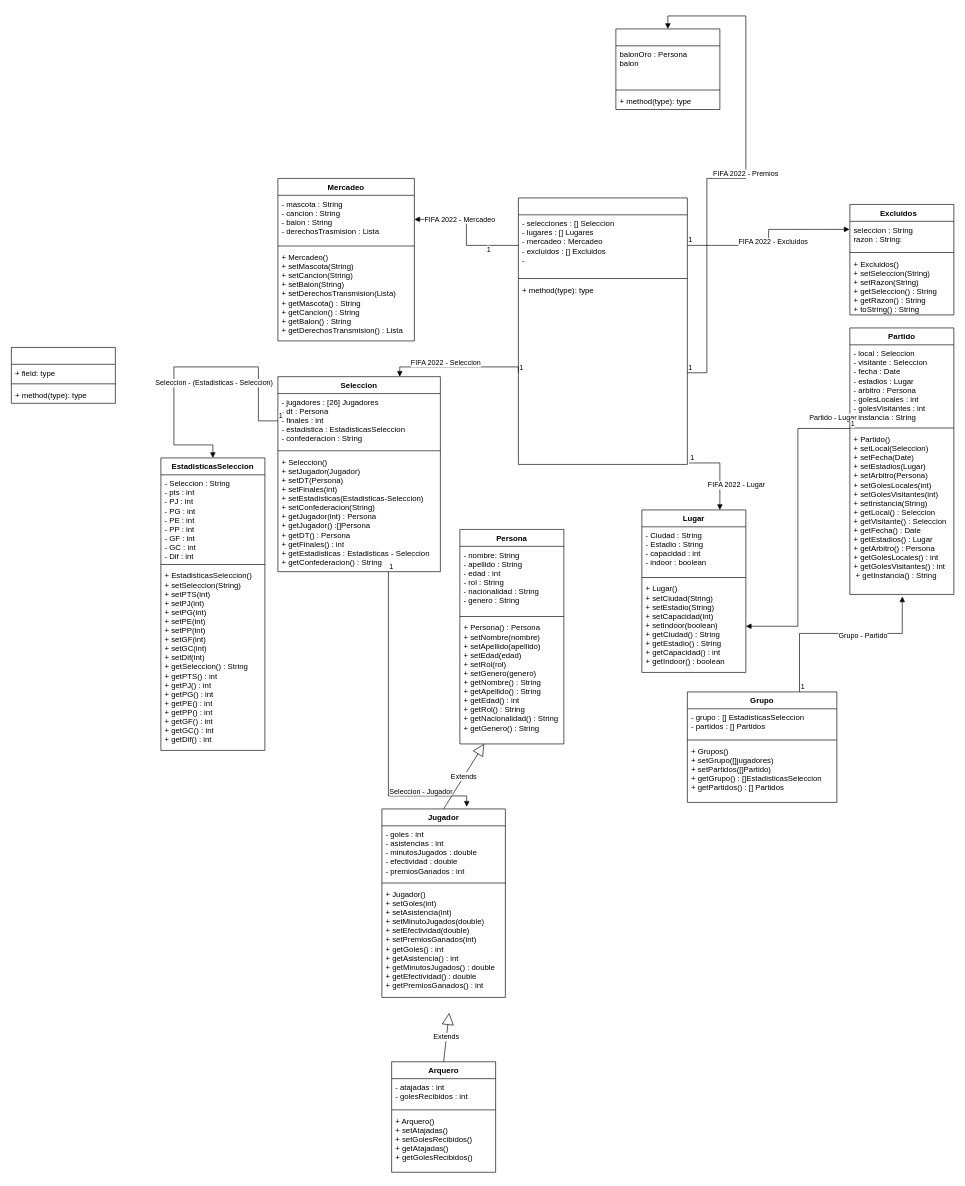
The diagram is 965 pixels wide and 1186 high, and some of its shapes have lost their labels. Each missing label, with the box of its shape:
Cronograma: (11, 347, 115, 403)
FIFA 2022: (518, 197, 687, 464)
Premios: (615, 28, 720, 110)
